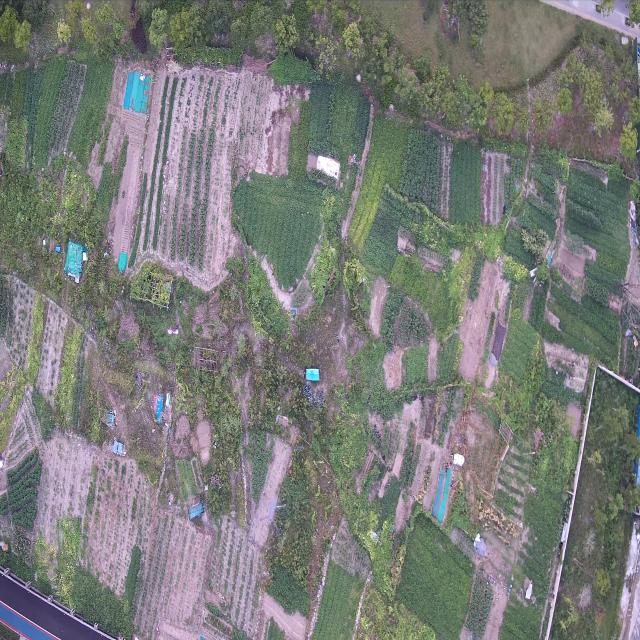UAV: (258, 490, 286, 532)
